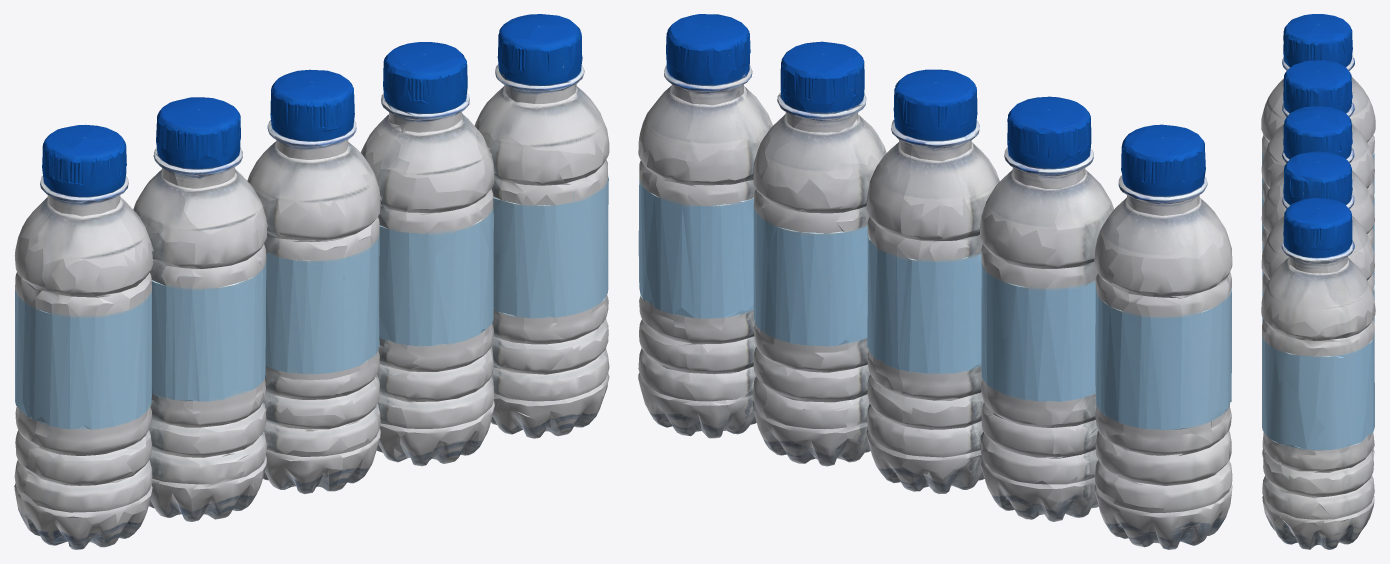
The model's file is remeshed-water-20000.glb.
The picture shows the model from 3 angles, left to right: view 1: azimuth 30°, elevation 25°; view 2: azimuth 150°, elevation 25°; view 3: azimuth 270°, elevation 25°; orthographic projection. The views are drawn at different scales.
Parts seen in each view (by area): view 1: output_unwrapped; view 2: output_unwrapped; view 3: output_unwrapped.
Boxes of the visible parts, x1,y1,x2,y2 form: output_unwrapped: (14,14,609,549); output_unwrapped: (638,14,1232,549); output_unwrapped: (1261,14,1375,549).
Bounding box in the file's own units: 1.9 × 1.24 × 0.3952.
1 material, 1 textured.
